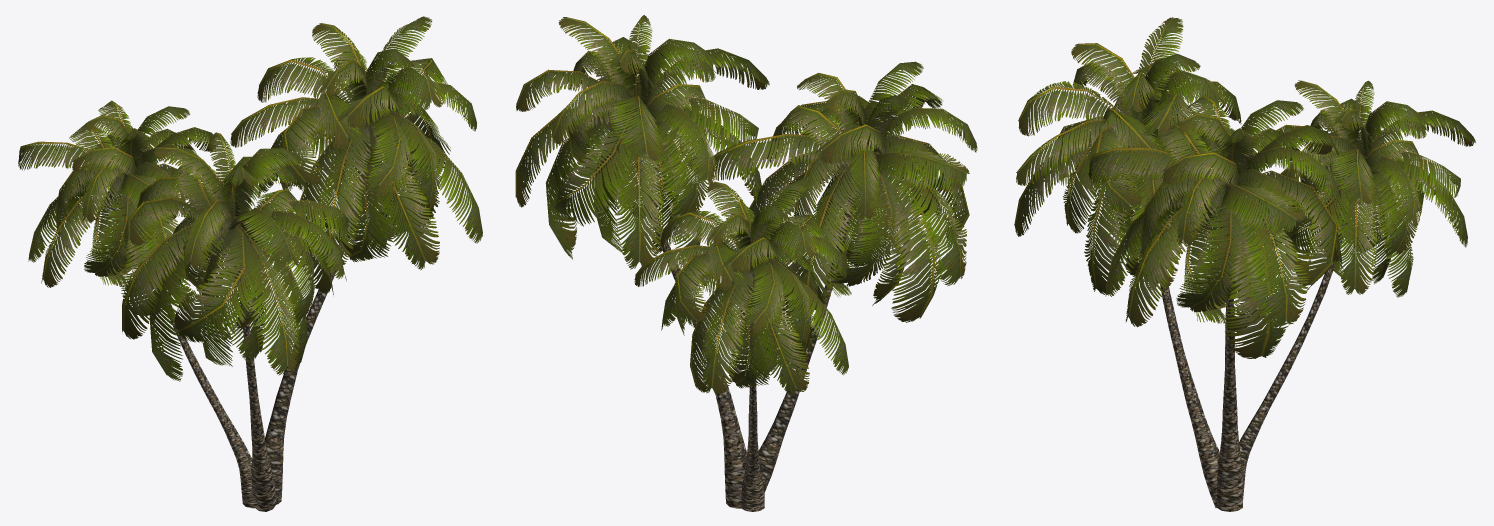
Rendered from tree_palm_tropical_05.dae.
3 renders of one model, left to right at view 1: azimuth 30°, elevation 25°; view 2: azimuth 150°, elevation 25°; view 3: azimuth 270°, elevation 25°, orthographic. The views are drawn at different scales.
Parts seen in each view (by area): view 1: palm_trio; view 2: palm_trio; view 3: palm_trio.
Boxes of the visible parts, x1=… form: palm_trio: x1=18, y1=16, x2=482, y2=511; palm_trio: x1=515, y1=15, x2=977, y2=511; palm_trio: x1=1014, y1=17, x2=1475, y2=511.
Size of the model in its own units: 22.39 by 24.92 by 23.1.
